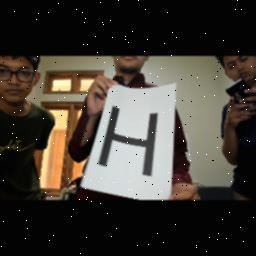h: (96, 102, 160, 182)
